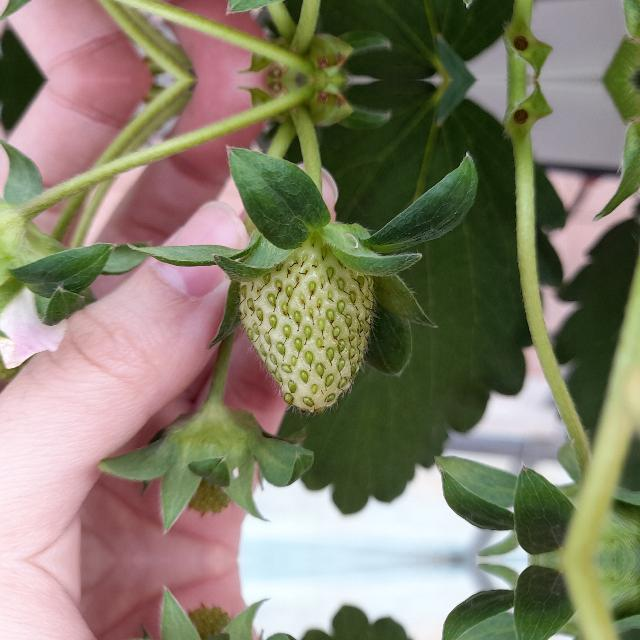Health_25: (238, 231, 374, 415)
